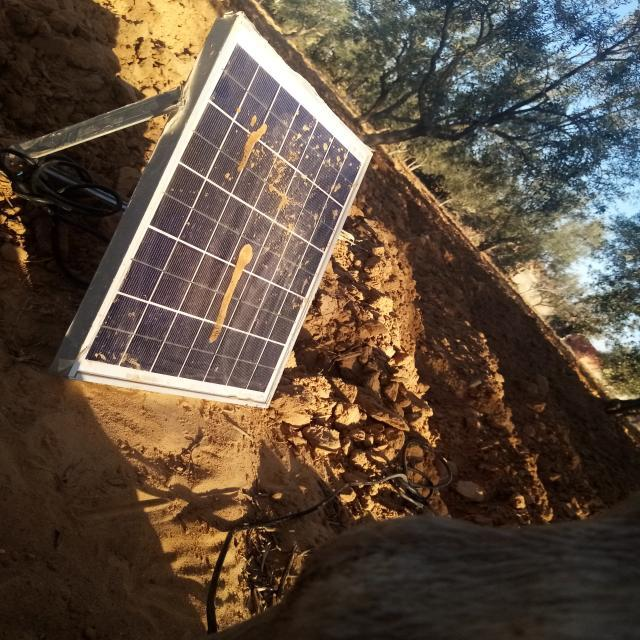faulty: (66, 20, 371, 400)
